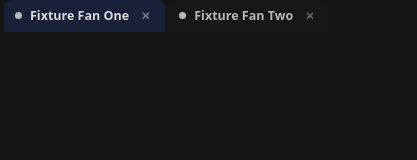
FanTabs with OpenInNewTabButton › right-click menu › "Open in a new window" opens the Fan window URL as a separate window, without activating the tab
The width and height of the screenshot is (417, 160).
Check: the button "Open in a new window" is not shown
Right-click the tab "Fixture Fan Two": (244, 16) [194,7,293,24]
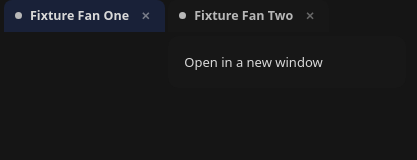
Click the button "Open in a new window": (287, 62) [174,42,400,82]
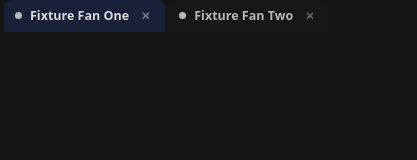
Check: the button "Open in a new window" is gone
